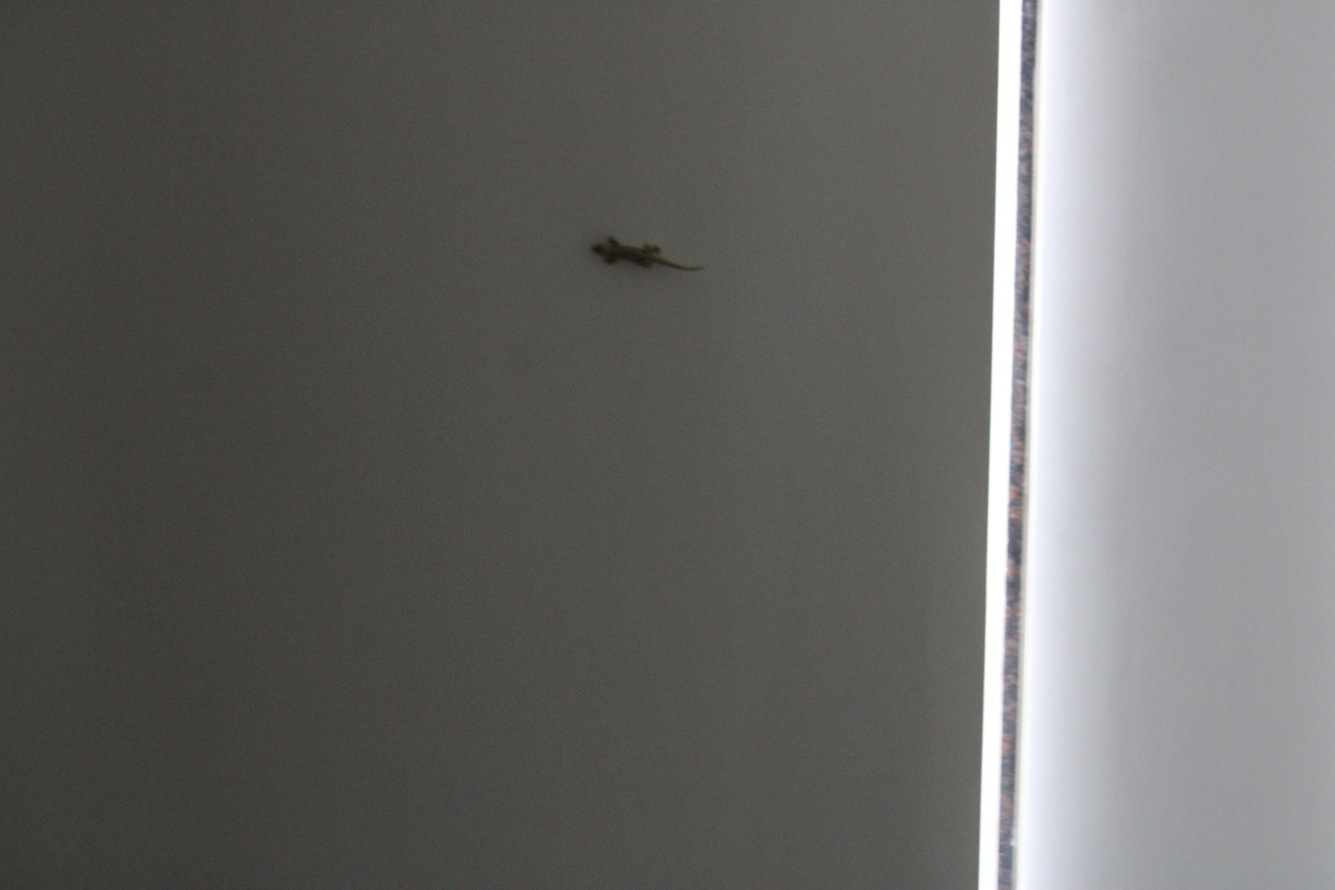lizard: (581, 218, 686, 282)
